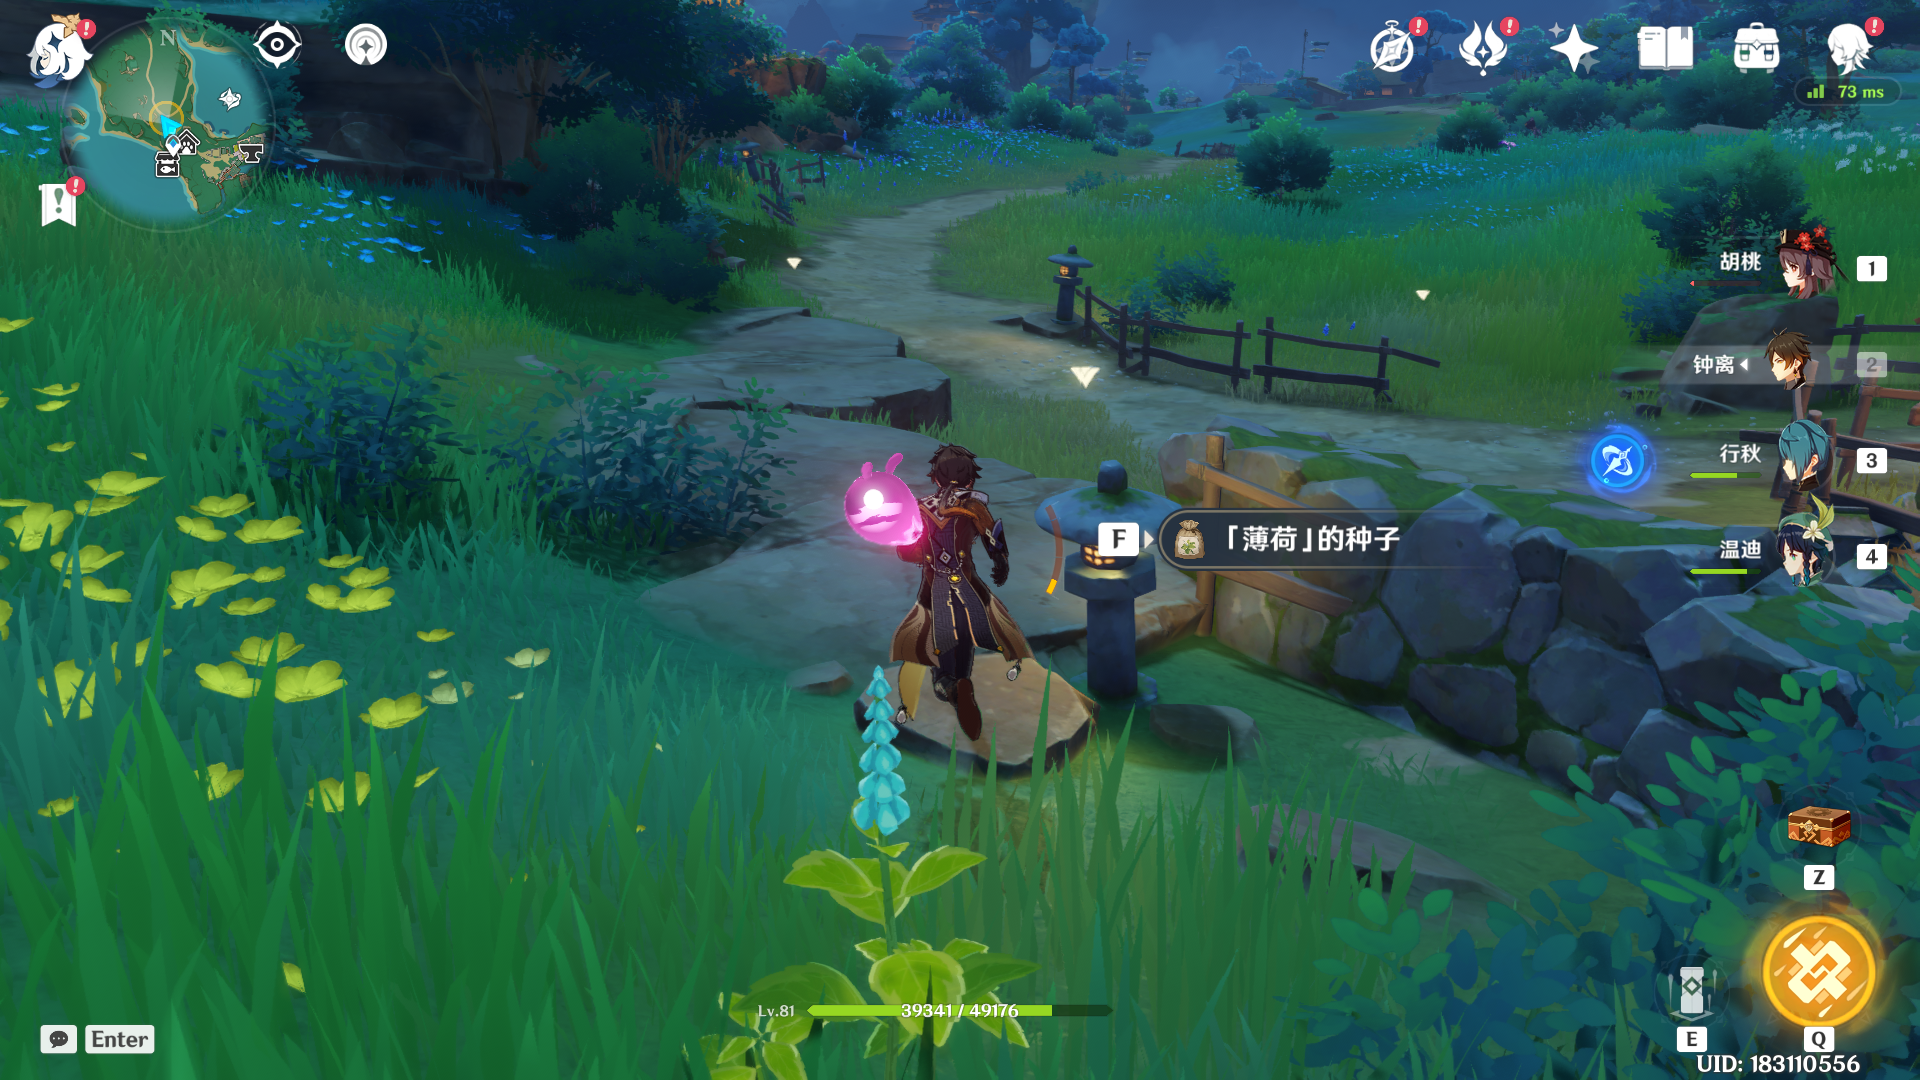character: (847, 411, 1073, 781)
